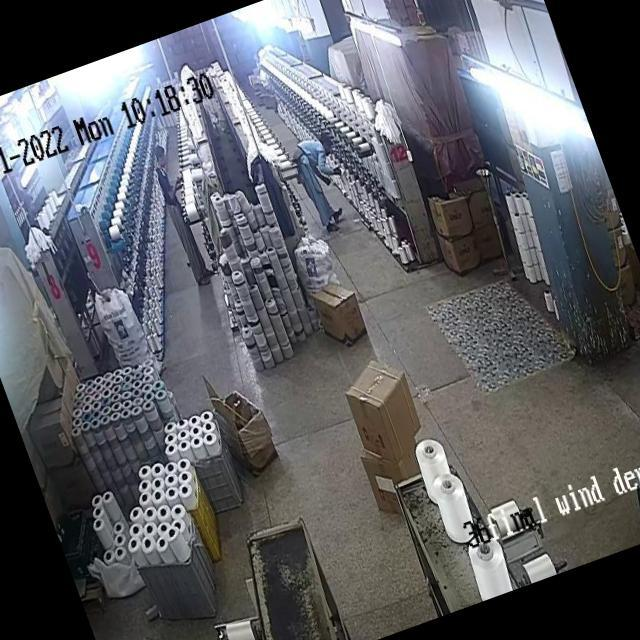person: (146, 144, 212, 277), (290, 132, 356, 238)
